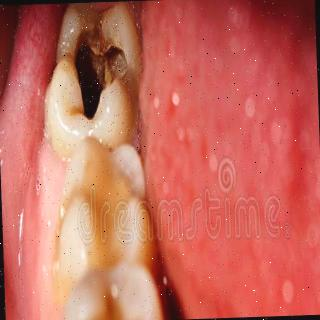cavities: (56, 0, 144, 129)
